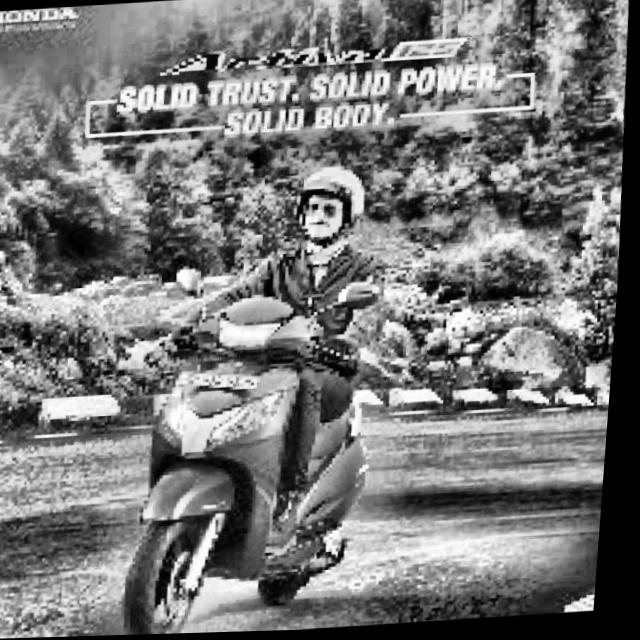motorcycle: (118, 247, 396, 636)
